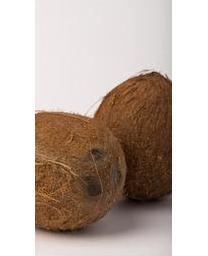coconut: (35, 111, 128, 230), (92, 72, 170, 202)
